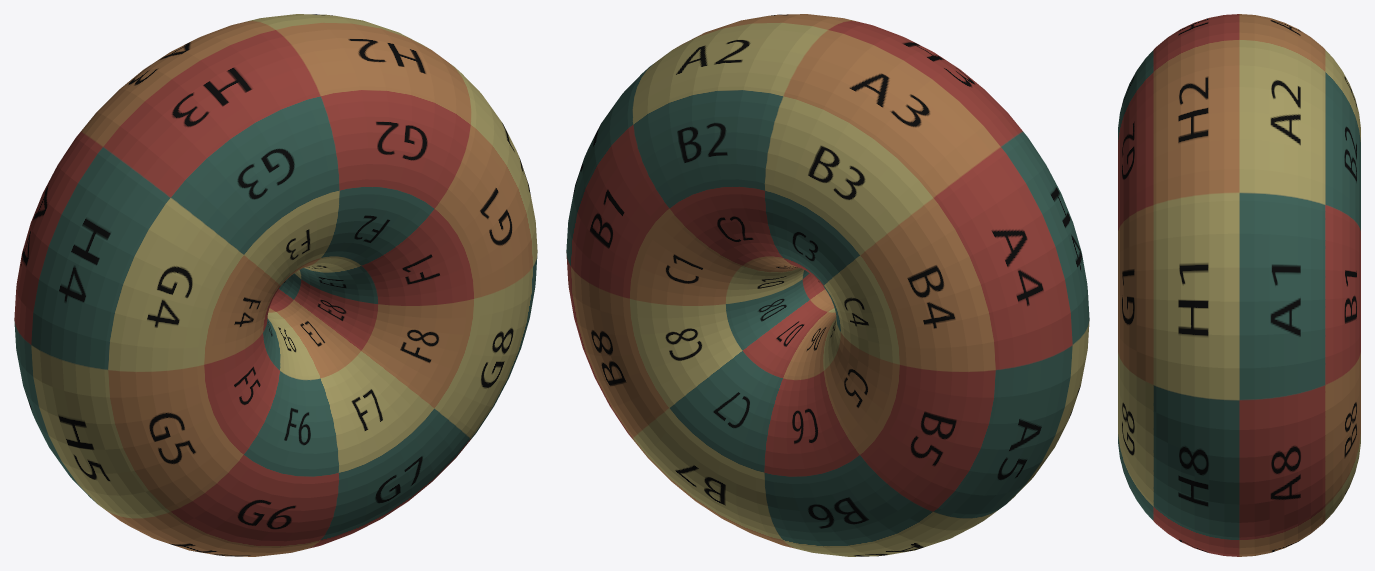
File: texture_torus_R1_r25.glb
The picture shows the model from 3 angles, left to right: view 1: azimuth 30°, elevation 25°; view 2: azimuth 150°, elevation 25°; view 3: azimuth 270°, elevation 25°; orthographic projection. The views are drawn at different scales.
Visible parts, largest first — view 1: world; view 2: world; view 3: world.
Part boxes in pixels (x1=…): world: x1=14, y1=14, x2=537, y2=556; world: x1=566, y1=14, x2=1089, y2=556; world: x1=1118, y1=14, x2=1360, y2=556.
Size of the model in its own units: 19.33 by 19.3 by 8.65.
Materials: 1 (1 with a texture image).
